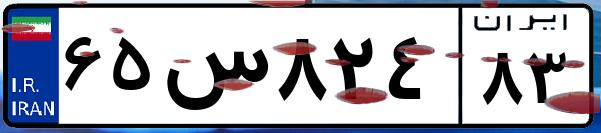2: (330, 28, 385, 110)
3: (525, 38, 570, 115)
4: (385, 28, 445, 110)
5: (110, 28, 158, 98)
6: (57, 26, 110, 100)
8: (270, 28, 330, 110), (475, 38, 525, 113)
س: (158, 20, 270, 120)
